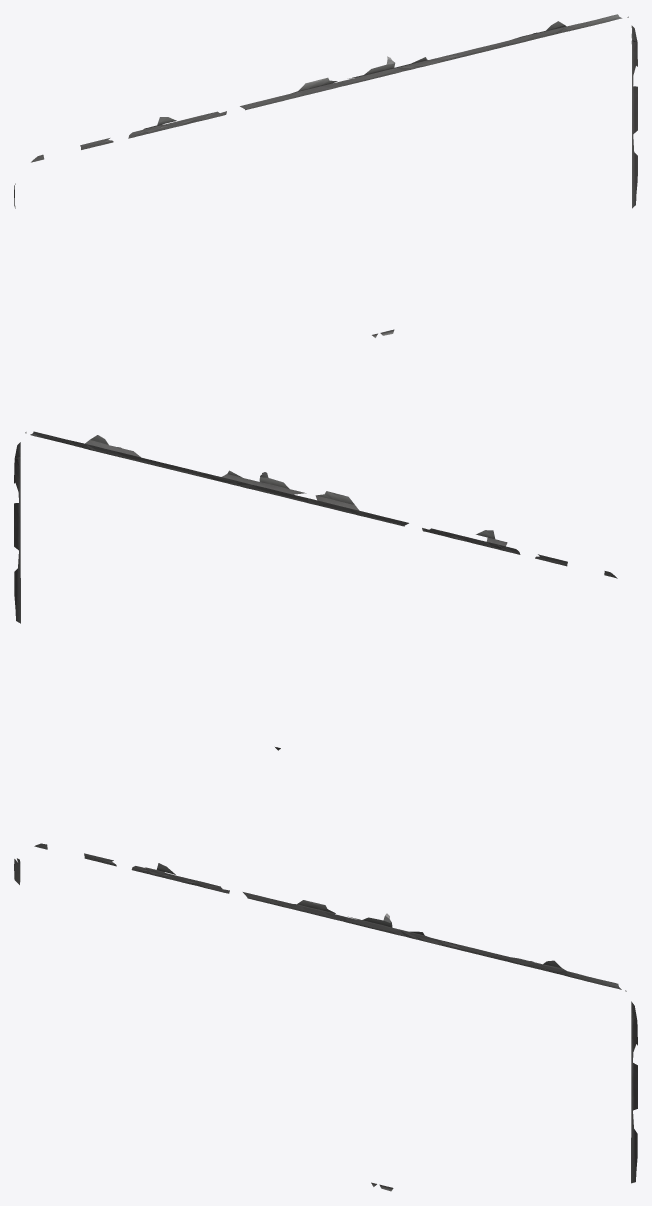
File: drawer_handle.glb
The picture shows the model from 3 angles, top to bottom: view 1: azimuth 30°, elevation 25°; view 2: azimuth 150°, elevation 25°; view 3: azimuth 330°, elevation 25°; orthographic projection.
Parts seen in each view (by area): view 1: source_surface_0; view 2: source_surface_0; view 3: source_surface_0.
Boxes of the visible parts, x1,y1,x2,y2 form: source_surface_0: [14, 14, 637, 337]; source_surface_0: [14, 431, 617, 750]; source_surface_0: [14, 843, 637, 1191].
Bounding box in the file's own units: 0.1783 × 0.0758 × 0.00155.
Materials: 1 (1 with a texture image).
